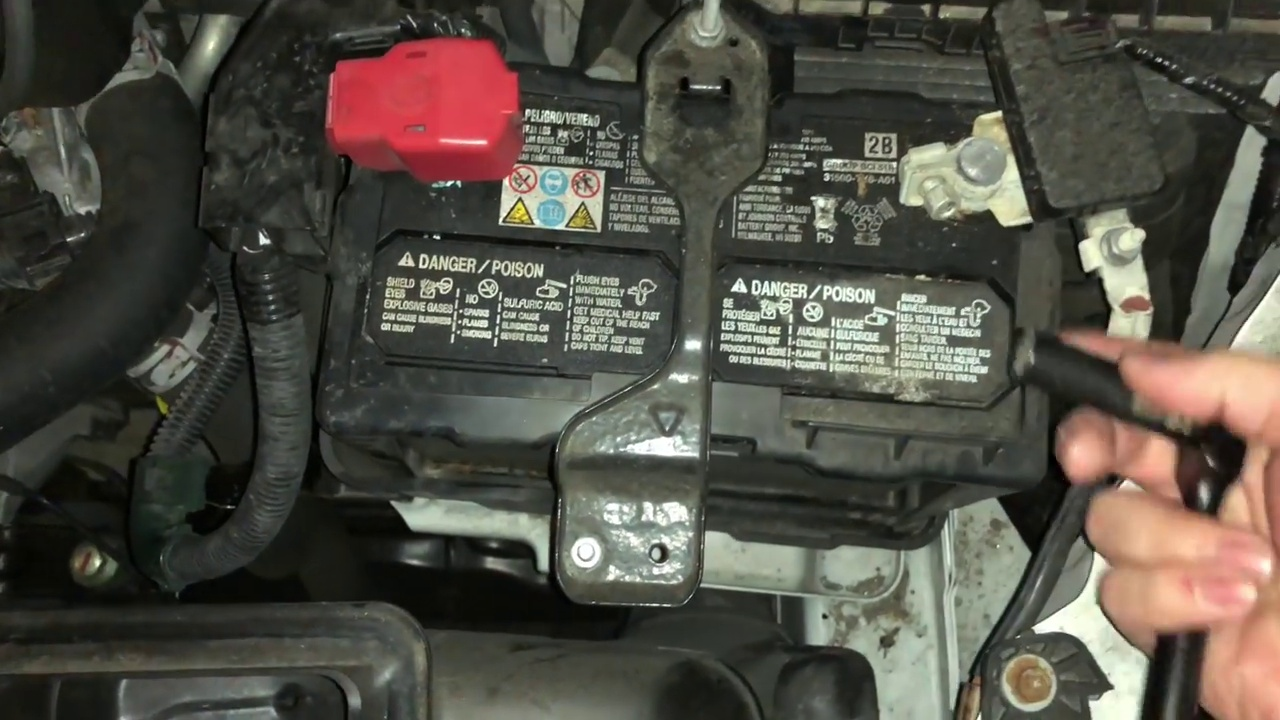battery: (335, 33, 1057, 488)
neg_connected: (882, 94, 1025, 244)
pos_connected: (296, 22, 548, 183)
